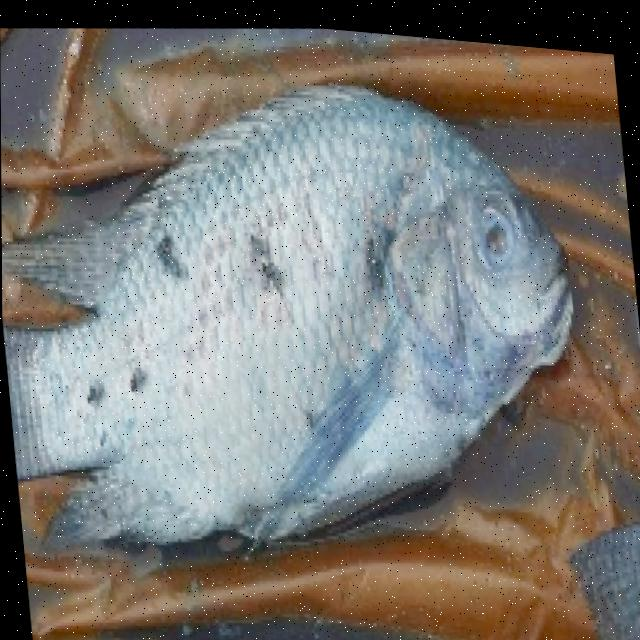Non-Fresh: (0, 59, 622, 507)
